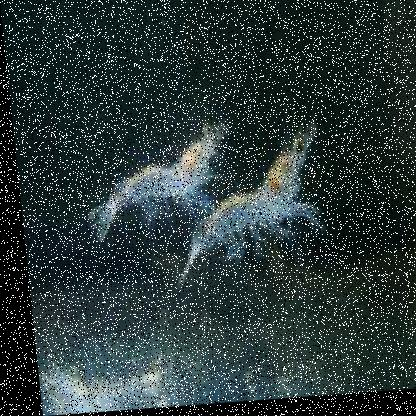shrimp: (158, 124, 326, 280), (72, 114, 235, 245)
